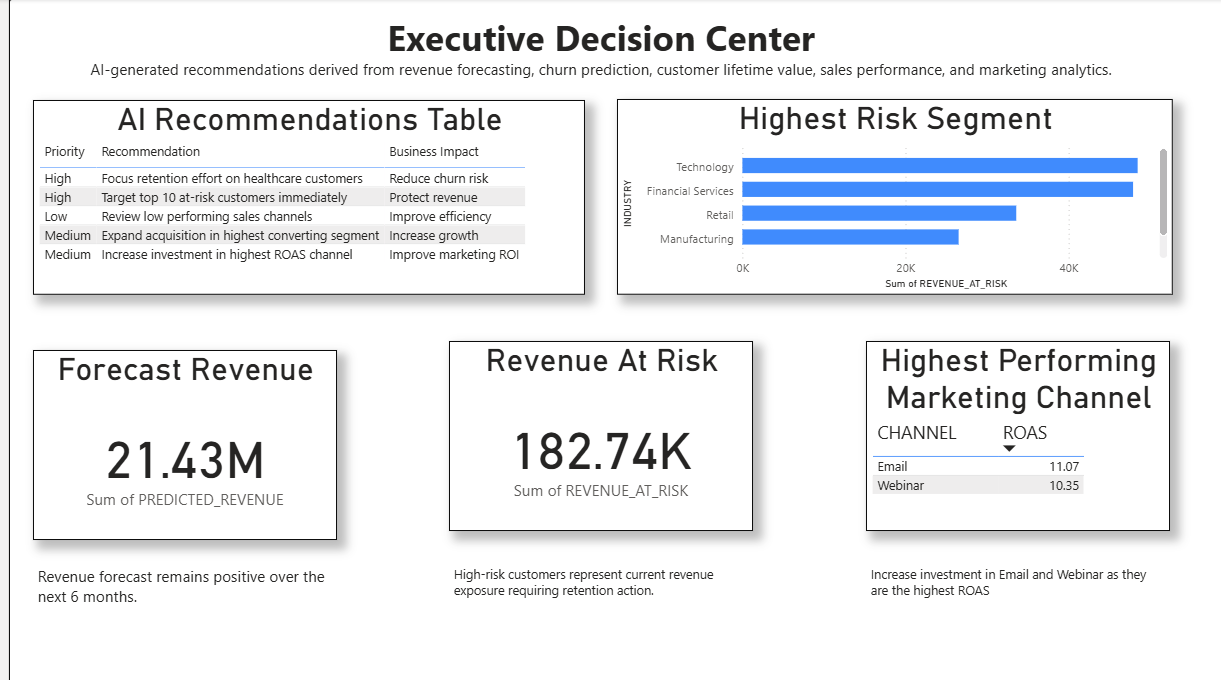

The page's visual inventory and layout, read from the dashboard file:
{"tool":"powerbi","page":{"name":"AI Decision Center","canvas":[1280,720],"ordinal":4},"visuals":[{"type":"textbox","box":[75.9,9.7,1095.2,96.3],"z":0},{"type":"tableEx","title":"AI Recommendations Table","fields":{"Values":["AI Recommendations Table.Priority","AI Recommendations Table.Recommendation","AI Recommendations Table.Business Impact"]},"box":[25.3,106.3,581.1,205.3],"z":1},{"type":"card","title":"Forecast Revenue","fields":{"Values":["Sum(MART_REVENUE_FORECAST.PREDICTED_REVENUE)"]},"box":[25.3,369.5,320,200],"z":2},{"type":"textbox","box":[25.3,591.6,320,68.4],"z":3},{"type":"card","title":"Revenue At Risk","fields":{"Values":["Sum(MART_CUSTOMER_CHURN.REVENUE_AT_RISK)"]},"box":[463.2,360,320,200],"z":4},{"type":"textbox","box":[463.2,591.6,320,68.4],"z":5},{"type":"tableEx","title":"Highest Performing Marketing Channel","fields":{"Values":["MART_MARKETING_PERFORMANCE.CHANNEL","MART_MARKETING_PERFORMANCE.ROAS"]},"box":[902.1,360,320,200],"z":6},{"type":"clusteredBarChart","title":"Highest Risk Segment","fields":{"Category":["MART_CUSTOMER_CHURN.INDUSTRY"],"Y":["Sum(MART_CUSTOMER_CHURN.REVENUE_AT_RISK)"]},"box":[640,105.3,585.3,206.3],"z":7},{"type":"textbox","box":[902.1,591.6,320,68.4],"z":8}]}

Visuals, with their boxes in screenshot pixels (x1, y1, x2, y2), scaled from the page's 1280x720 canvas onto the 1221x680 screenshot:
textbox: {"x1": 72, "y1": 9, "x2": 1117, "y2": 100}
"AI Recommendations Table" tableEx: {"x1": 24, "y1": 100, "x2": 578, "y2": 294}
"Forecast Revenue" card: {"x1": 24, "y1": 349, "x2": 329, "y2": 538}
textbox: {"x1": 24, "y1": 559, "x2": 329, "y2": 623}
"Revenue At Risk" card: {"x1": 442, "y1": 340, "x2": 747, "y2": 529}
textbox: {"x1": 442, "y1": 559, "x2": 747, "y2": 623}
"Highest Performing Marketing Channel" tableEx: {"x1": 861, "y1": 340, "x2": 1166, "y2": 529}
"Highest Risk Segment" clusteredBarChart: {"x1": 610, "y1": 99, "x2": 1169, "y2": 294}
textbox: {"x1": 861, "y1": 559, "x2": 1166, "y2": 623}
